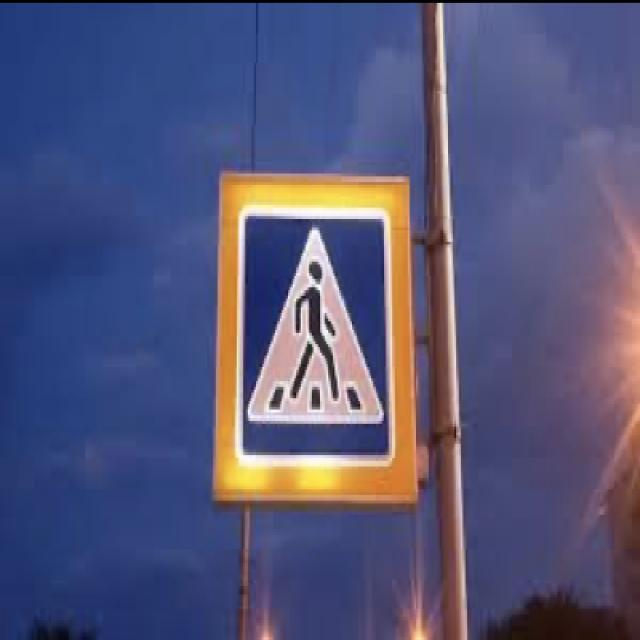crosswalk_sign: (237, 200, 396, 468)
